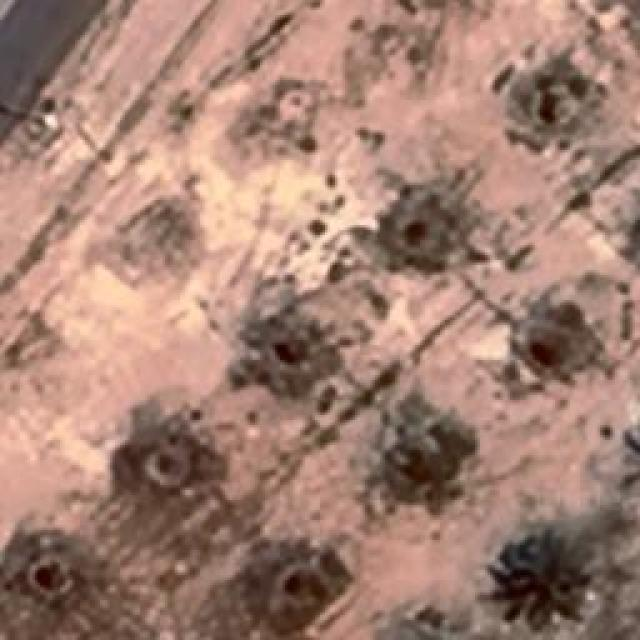PalmTree: (19, 86, 546, 582), (98, 100, 630, 457)
